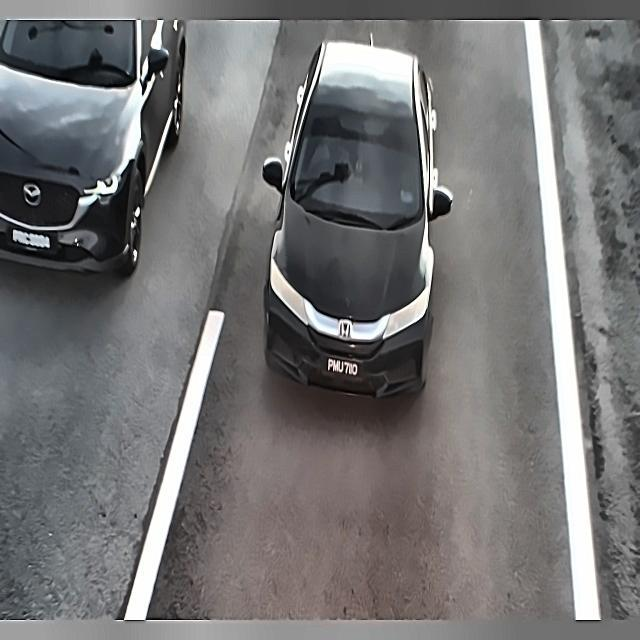car: (6, 224, 60, 256), (323, 352, 368, 382)
